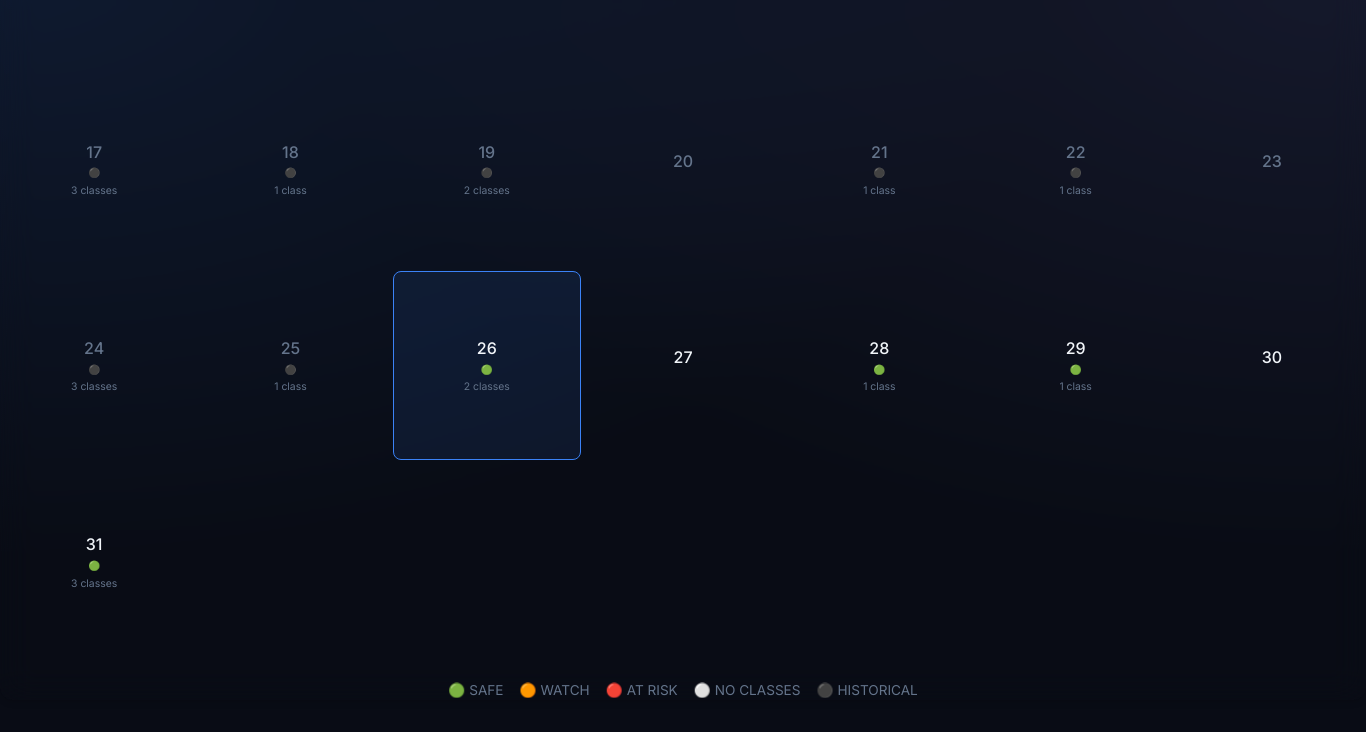
Test: AttendanceCalendar › handles future dates correctly with projected simulations
(page scrolled)
Click August 28 (Friday - future date)
Click the text "28": [879, 348] box 869,336 -> 889,360
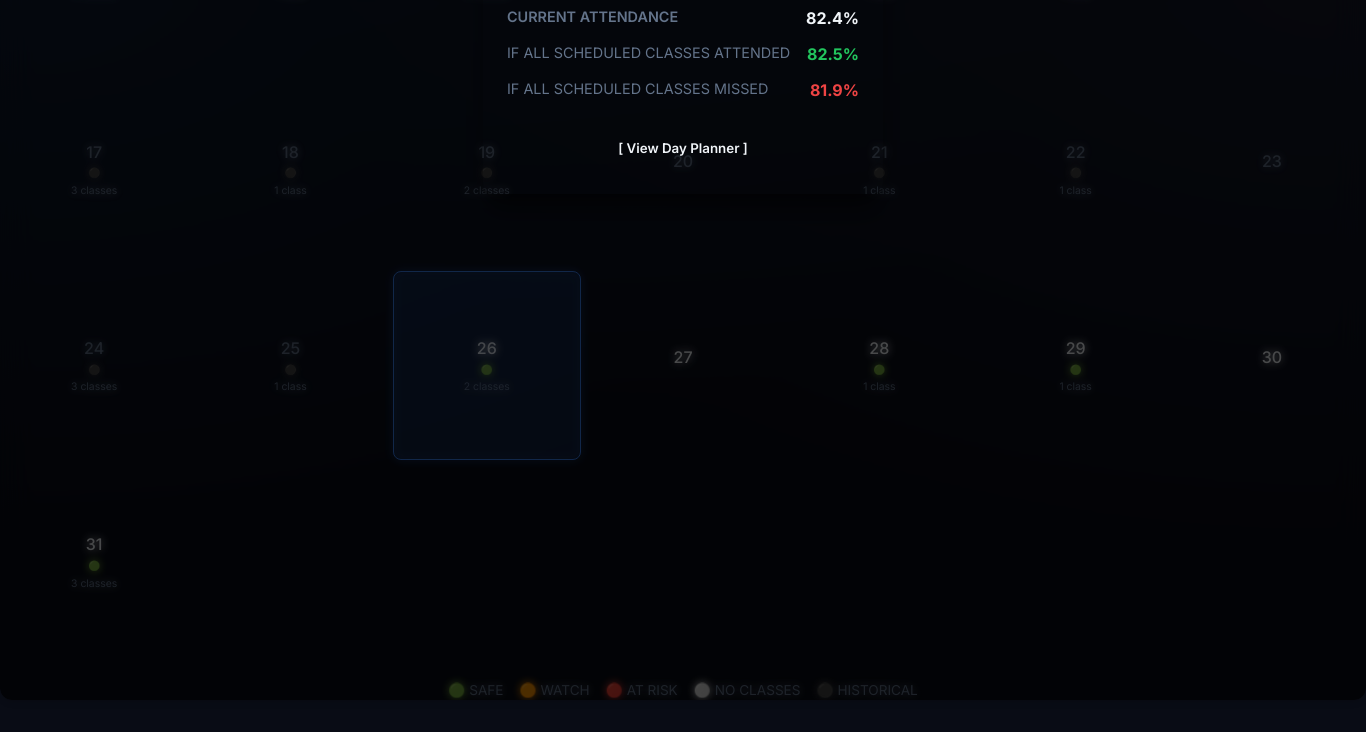
Now the text "IF ALL SCHEDULED CLASSES MISSED" is shown, box 507,78 -> 768,102
Now the text "IF ALL SCHEDULED CLASSES ATTENDED" is shown, box 507,42 -> 790,66
